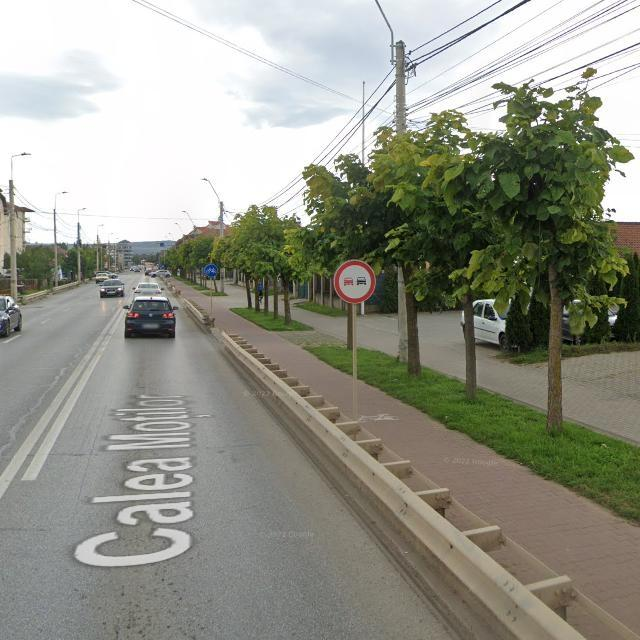forb_overtake: (334, 259, 377, 305)
